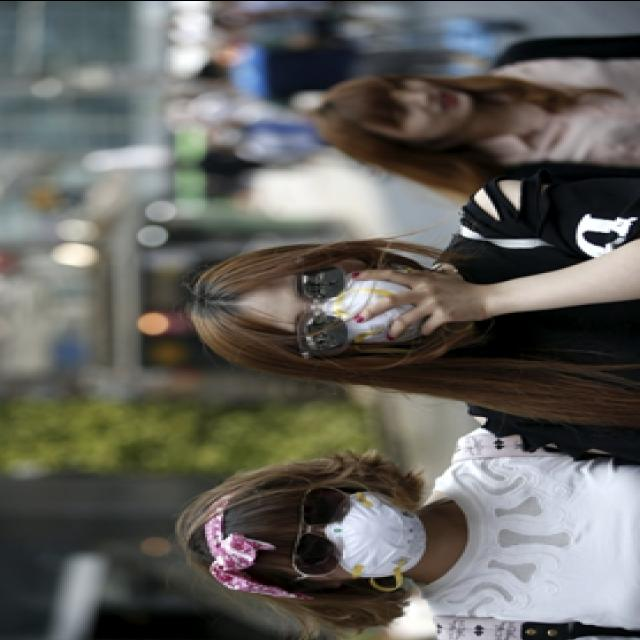mask: (278, 487, 428, 578), (284, 261, 424, 344)
no_mask: (382, 78, 474, 138)
